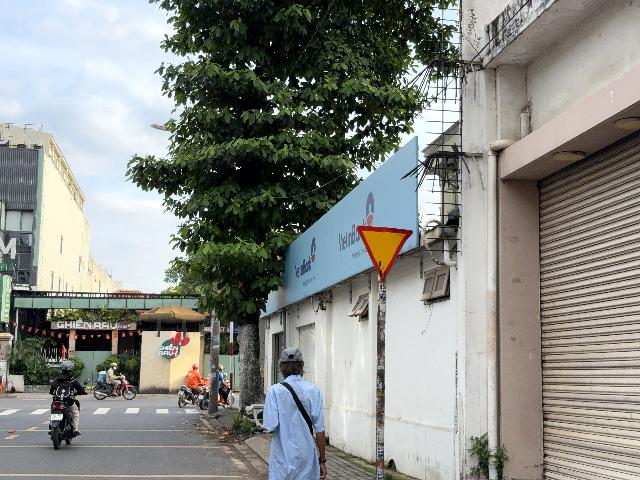giao-nhau-voi-duong-uu-tien: (356, 225, 414, 281)
